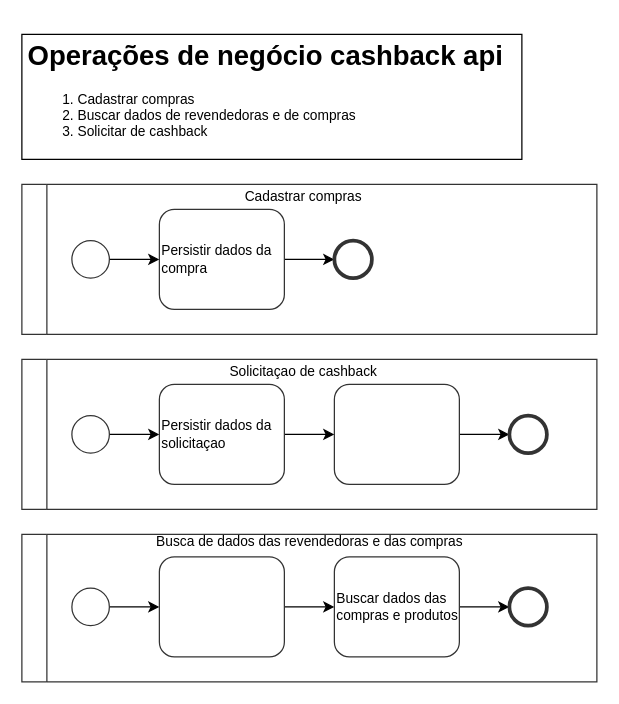
The diagram is 619 pixels wide and 704 high, and some of its shapes have lost their labels. The centre of each missing label's shape, as x and y in pixels:
"Buscar dados da vendedora" goes at point 221,606.
"Notificar sistema interno" goes at point 396,433.
